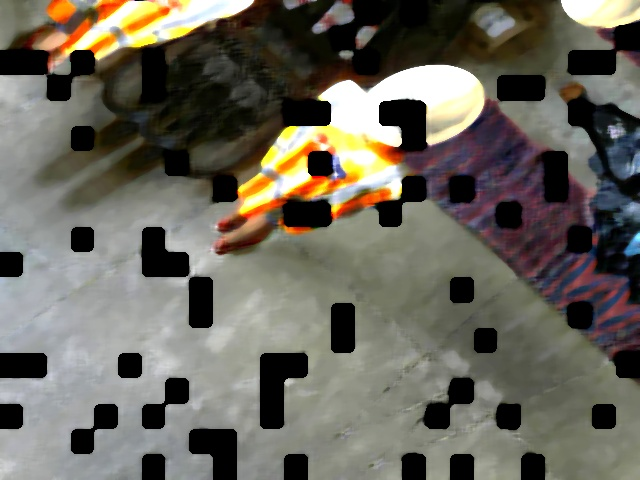eight: (371, 82, 428, 124)
